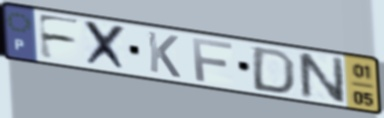D: (250, 45, 299, 96)
F: (35, 12, 84, 62), (190, 36, 236, 84)
K: (145, 29, 183, 80)
N: (294, 50, 348, 106)
X: (82, 18, 131, 74)
